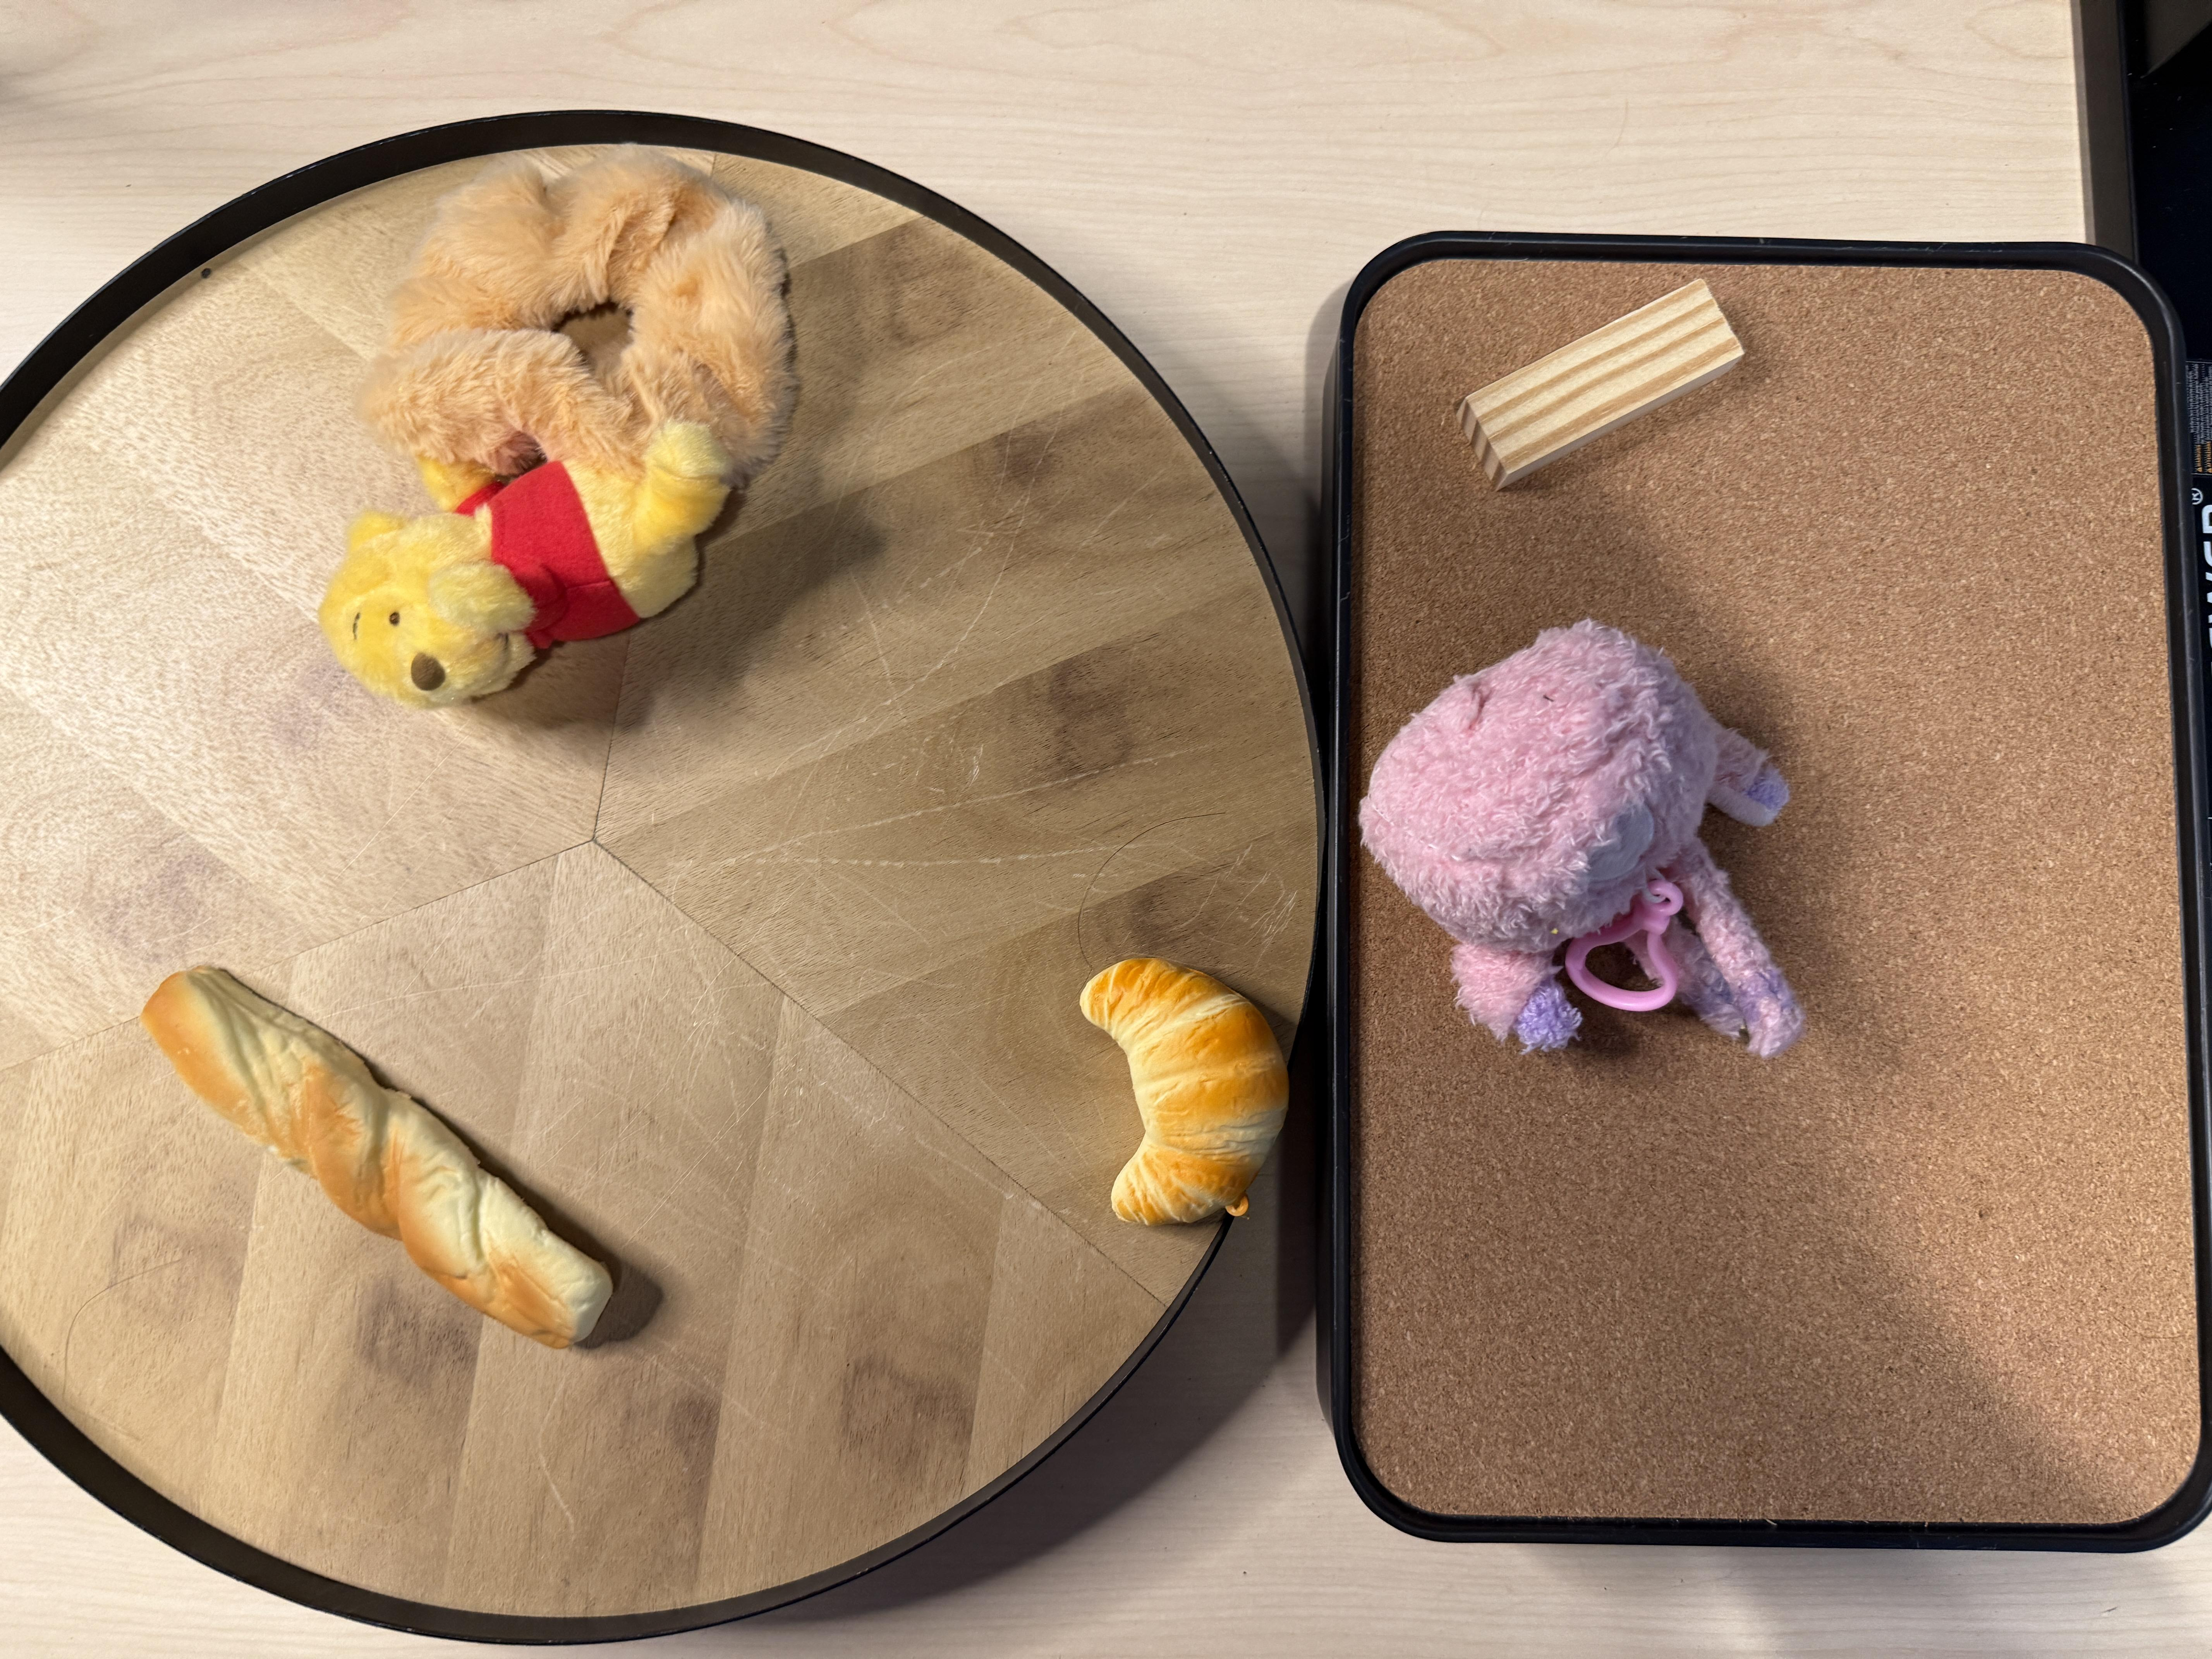block: (1456, 277, 1747, 491)
bread: (141, 972, 613, 1352), (1078, 957, 1291, 1218)
doll: (319, 164, 801, 701), (1359, 615, 1810, 1054)
